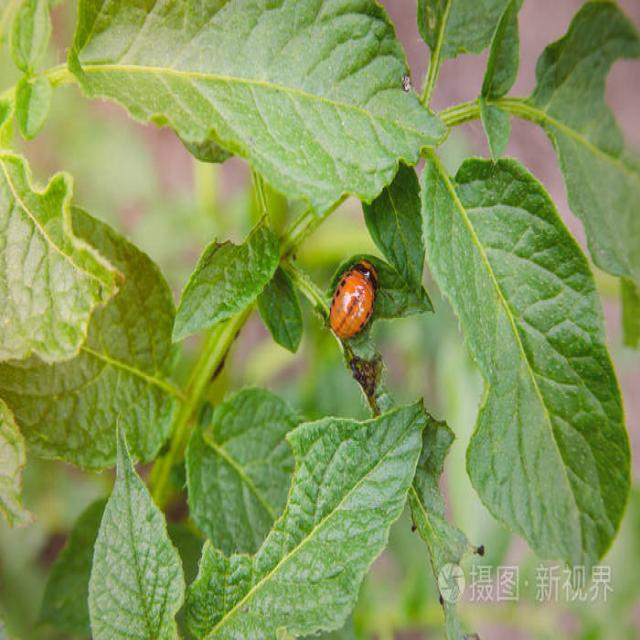ShuCaiHuaBanChong-Larva-: (324, 249, 391, 362)
